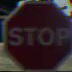Stop: (4, 2, 67, 63)
